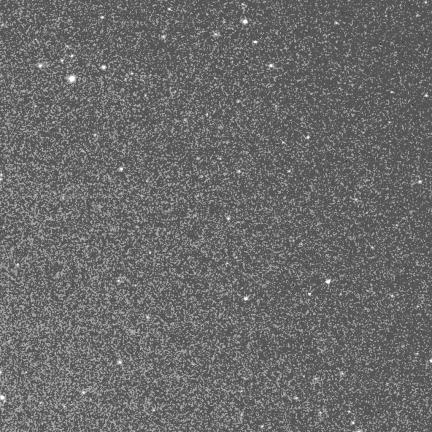blob: (68, 76, 75, 82), (0, 395, 5, 400), (101, 65, 106, 70), (326, 279, 331, 284), (243, 19, 248, 24), (146, 315, 150, 320), (38, 63, 42, 68), (424, 93, 428, 97), (306, 135, 310, 139), (152, 408, 156, 412), (119, 167, 123, 171), (118, 360, 122, 364), (71, 54, 75, 58), (415, 353, 419, 357), (162, 35, 166, 39), (227, 216, 230, 221), (390, 91, 395, 94), (269, 64, 273, 67), (60, 60, 64, 63), (288, 170, 292, 173), (101, 16, 105, 19), (335, 21, 339, 24), (244, 297, 248, 300), (131, 72, 134, 76), (253, 41, 257, 44), (418, 180, 422, 183), (82, 391, 85, 394), (237, 170, 240, 173), (351, 421, 354, 424), (391, 295, 394, 298), (308, 293, 311, 296), (430, 359, 432, 363), (168, 8, 172, 10), (294, 397, 298, 399)
